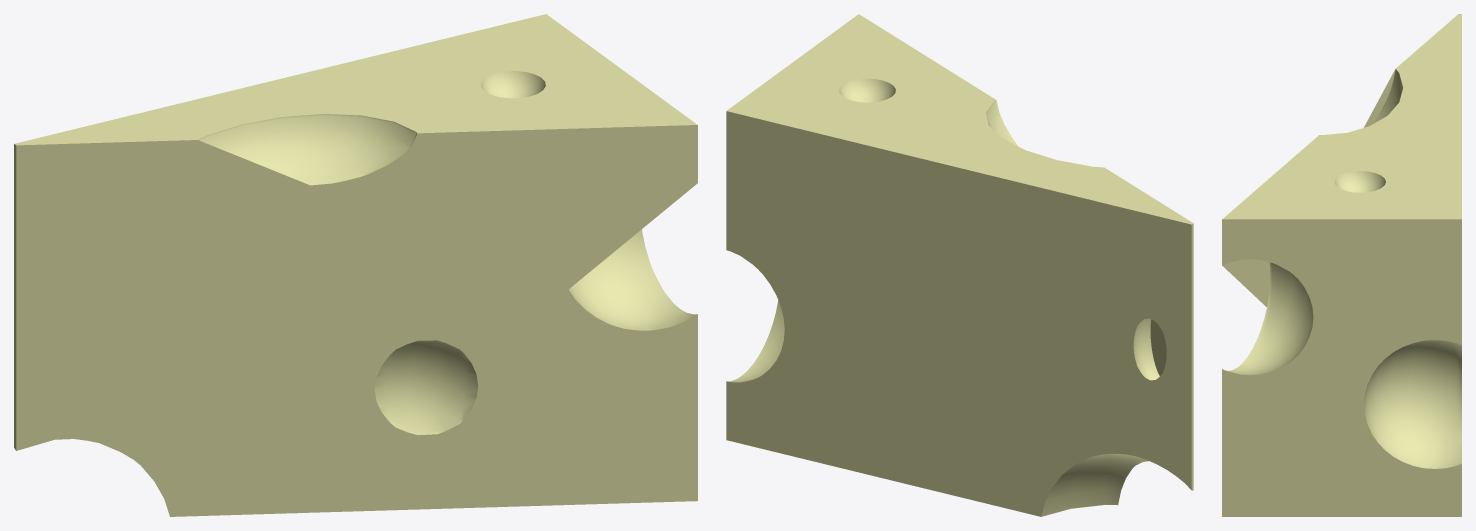
File: cheese.fbx
3 renders of one model, left to right at view 1: azimuth 30°, elevation 25°; view 2: azimuth 150°, elevation 25°; view 3: azimuth 270°, elevation 25°, orthographic. The views are drawn at different scales.
Visible parts, largest first — view 1: pCube11; view 2: pCube11; view 3: pCube11.
Part boxes in pixels (x1=…): pCube11: x1=14, y1=14, x2=697, y2=516; pCube11: x1=726, y1=14, x2=1193, y2=516; pCube11: x1=1222, y1=14, x2=1461, y2=516.
Size of the model in its own units: 1.69 by 1.14 by 0.8321.
